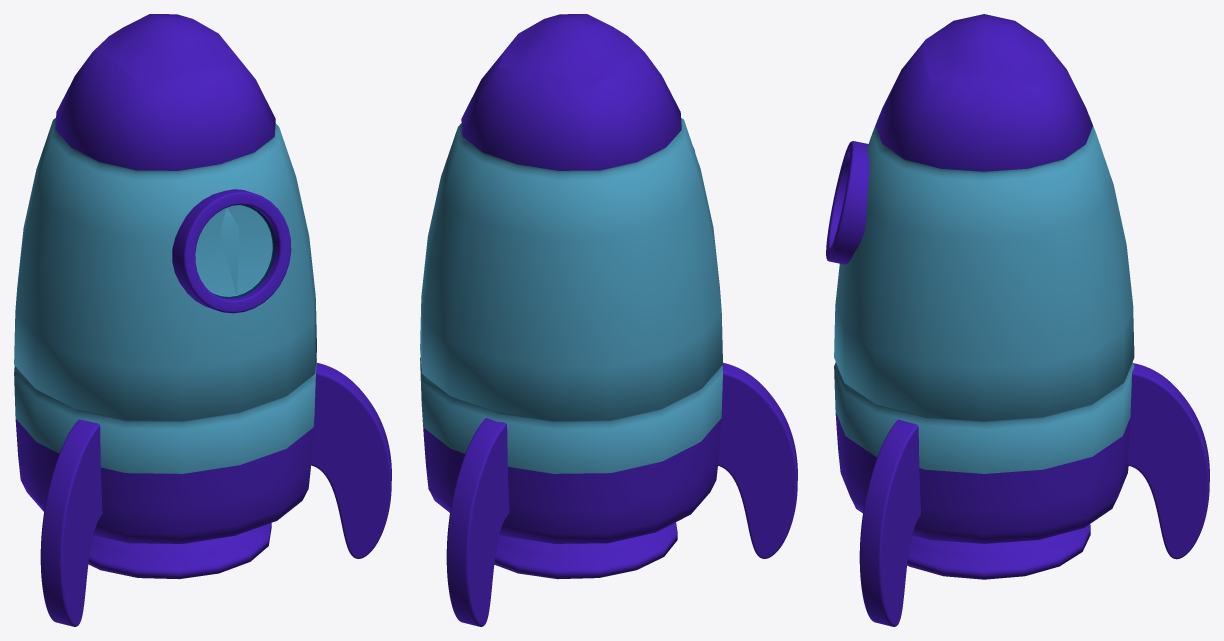
File: rocket2.glb
3 renders of one model, left to right at view 1: azimuth 30°, elevation 25°; view 2: azimuth 150°, elevation 25°; view 3: azimuth 270°, elevation 25°, orthographic.
Visible parts, largest first — view 1: Cube.001, Cylinder, BezierCircle.002, BezierCircle; view 2: Cube.001, BezierCircle, BezierCircle.001; view 3: Cube.001, BezierCircle.001, BezierCircle.002, Cylinder.
Part boxes in pixels (<box>): Cube.001: <box>14,14,316,579</box>; Cylinder: <box>172,189,291,313</box>; BezierCircle.002: <box>311,362,391,558</box>; BezierCircle: <box>40,419,102,626</box>; Cube.001: <box>420,14,722,579</box>; BezierCircle: <box>718,362,797,558</box>; BezierCircle.001: <box>446,418,509,626</box>; Cube.001: <box>834,14,1134,579</box>; BezierCircle.001: <box>1127,363,1209,559</box>; BezierCircle.002: <box>859,419,920,626</box>; Cylinder: <box>826,141,869,264</box>.
Size of the model in its own units: 2.57 by 3.77 by 2.46.
